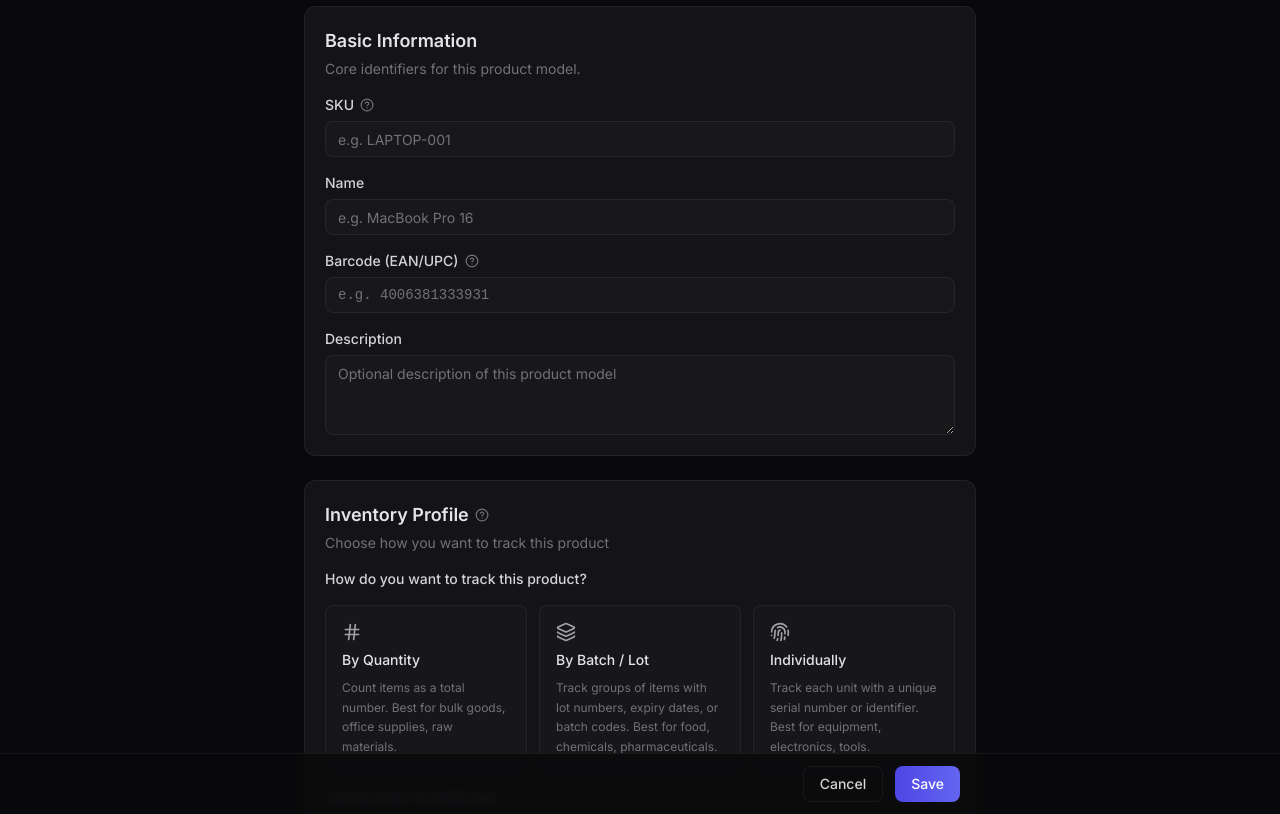
Test: ProductModelCreate – Tracking Preset section › shows compatible preset count in helper text
What coordinates should you click on to do the following:
click the text "By Quantity"
I would click on:
 (381, 660)
Its box is top-left (342, 650), bottom-right (420, 670).
(page scrolled)
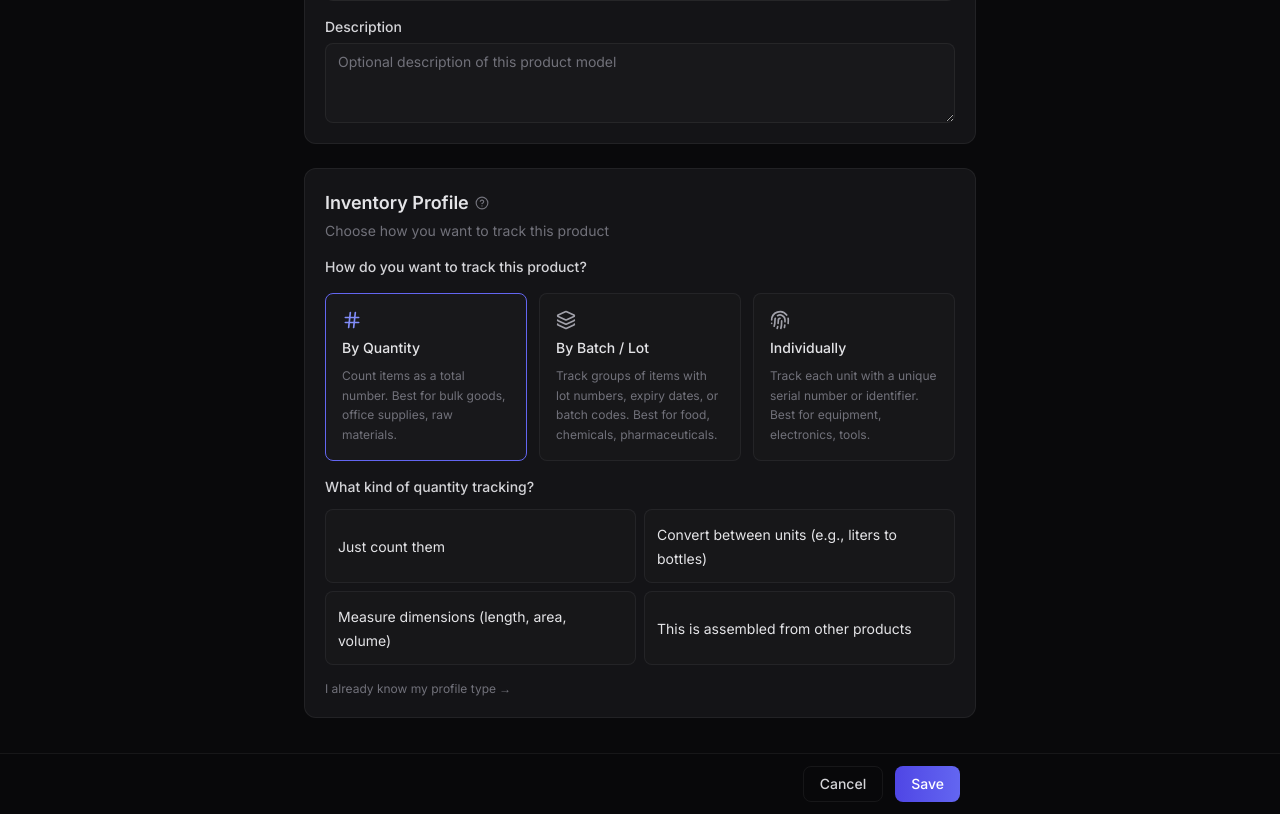
What coordinates should you click on to do the following:
click the button "Just count them"
I would click on:
 (391, 546)
Its box is top-left (325, 509), bottom-right (636, 583).
(page scrolled)
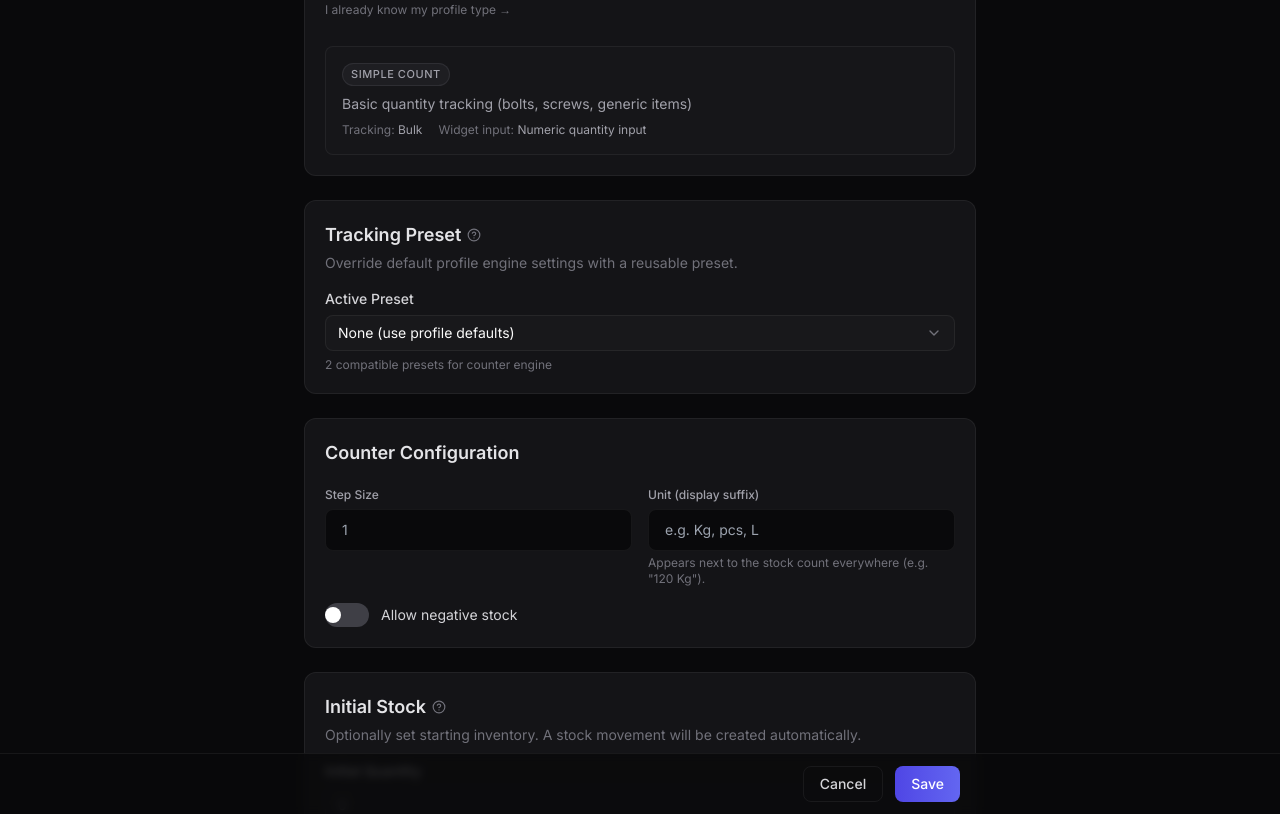
Expected: the text "2 compatible presets for counter engine" is shown, top-left (325, 356), bottom-right (552, 372)
